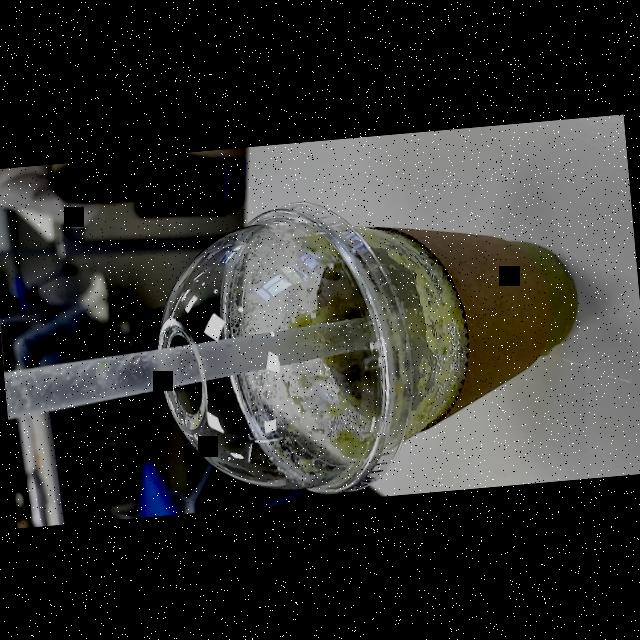plastic_cup: (132, 173, 599, 502)
plastic_cup_lid: (140, 184, 417, 514)
straw: (3, 317, 372, 417)
